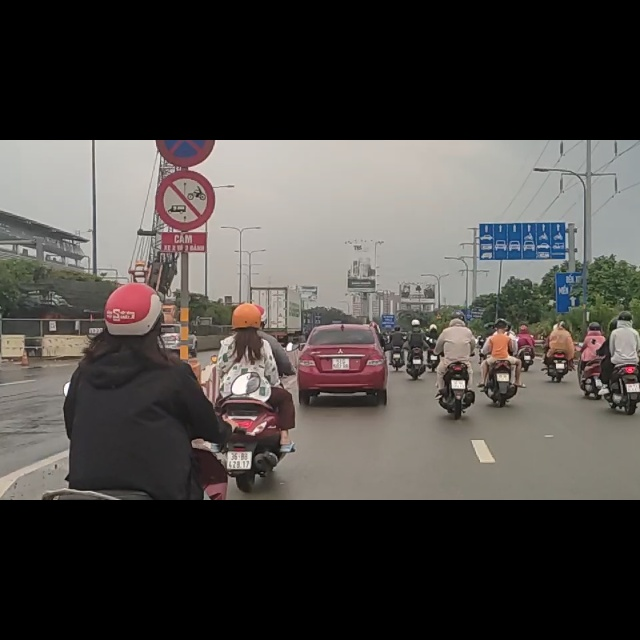bien_chi_dan: (157, 54, 214, 159), (159, 2, 215, 46)
